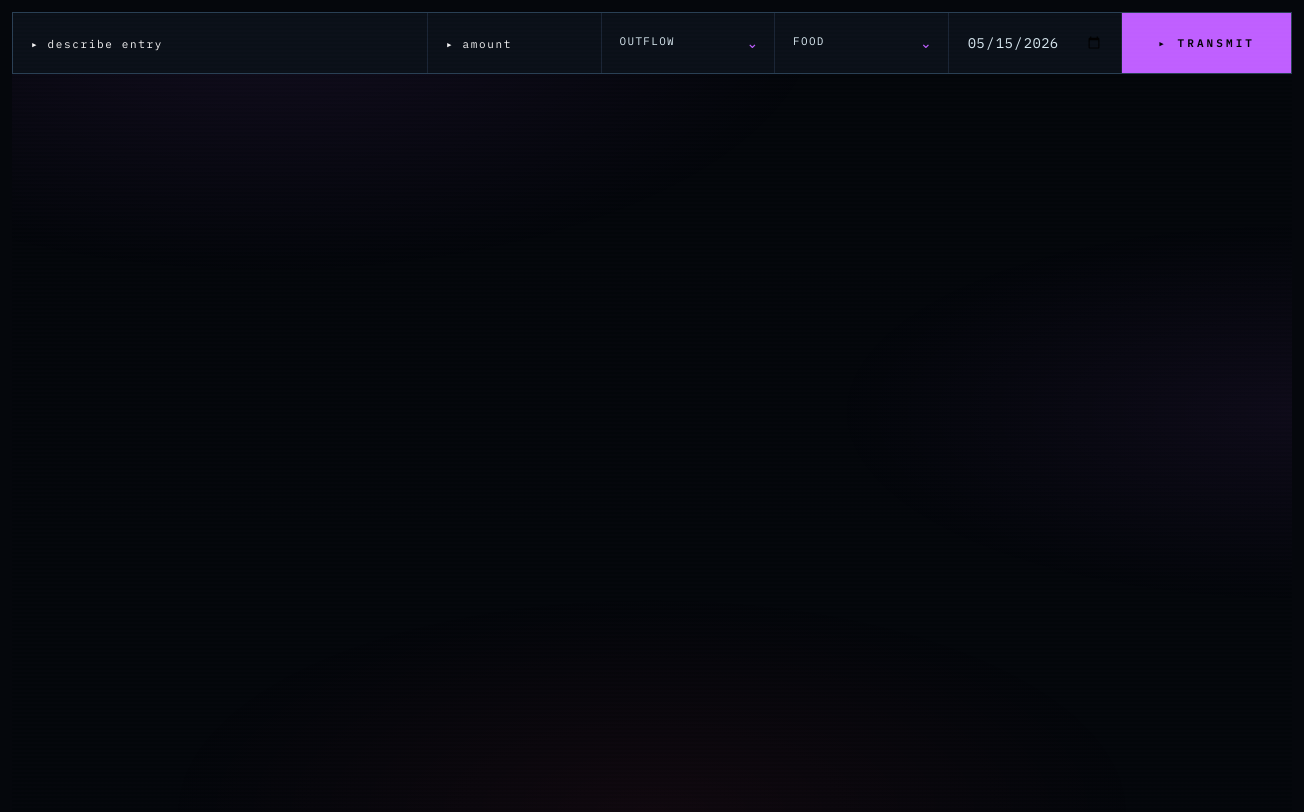
Test: TransactionForm › validation › shows amount error when submitting with amount of zero
Step 1. Type "Coffee" into the field with placeholder "▸ describe entry" → {"x": 220, "y": 43}, box [13,13,427,73]
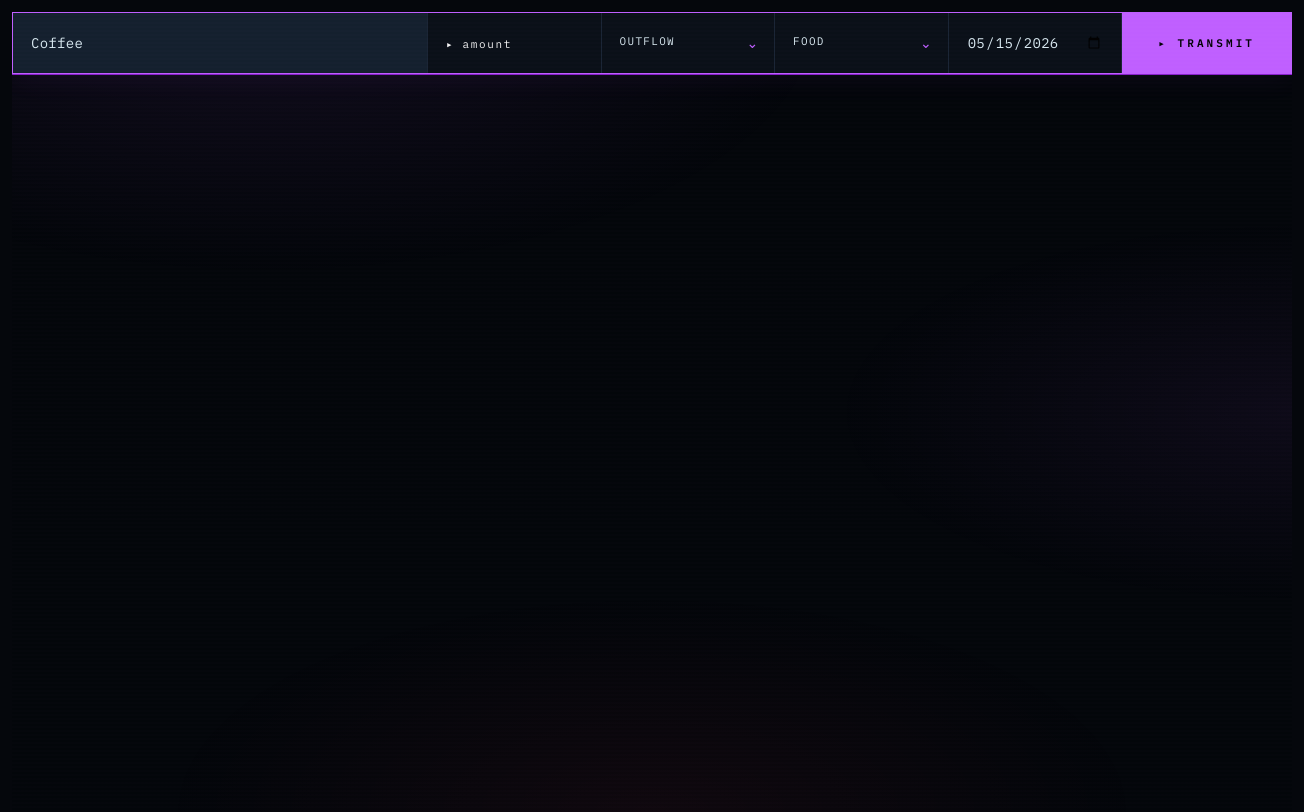
Step 2. Type "0" into the number field with placeholder "▸ amount" → {"x": 514, "y": 43}, box [428,13,601,73]
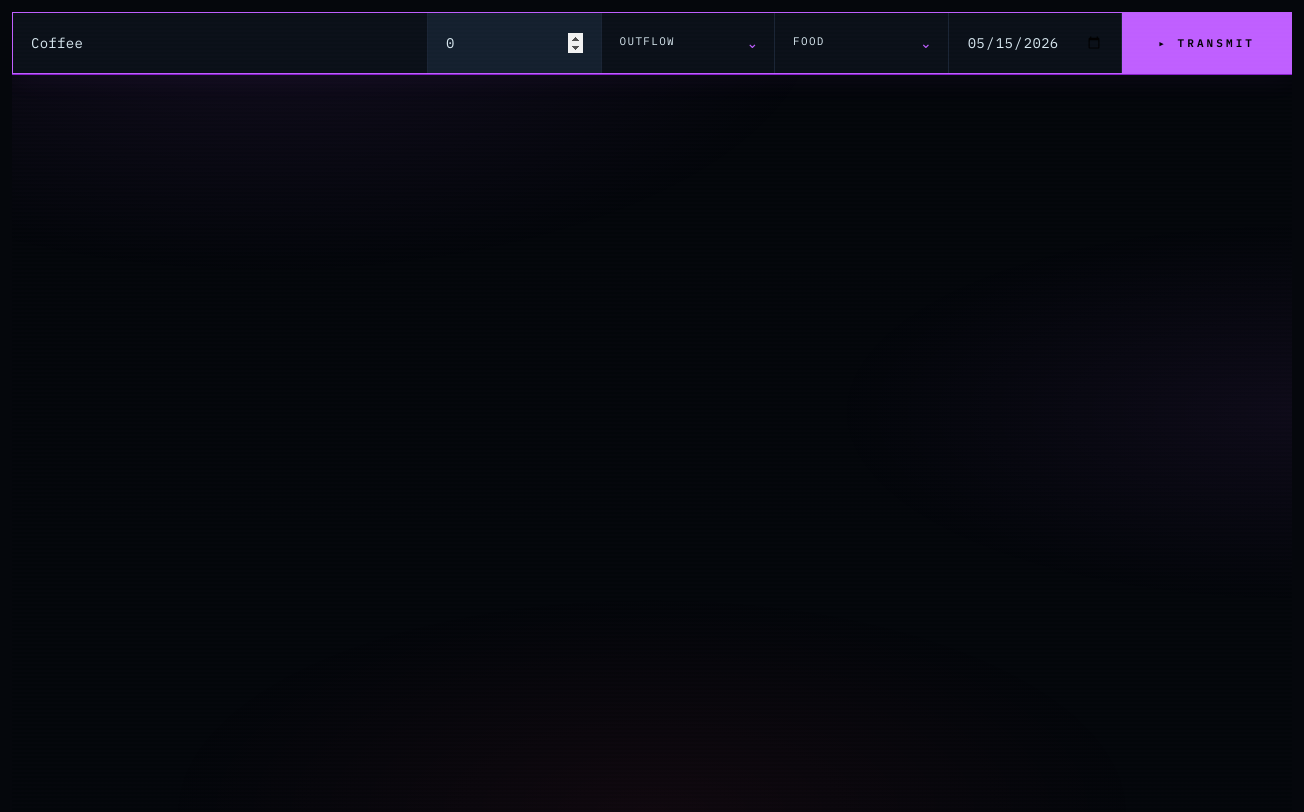
Step 3. Click the button "▸ Transmit" → {"x": 1207, "y": 43}, box [1122,13,1291,73]
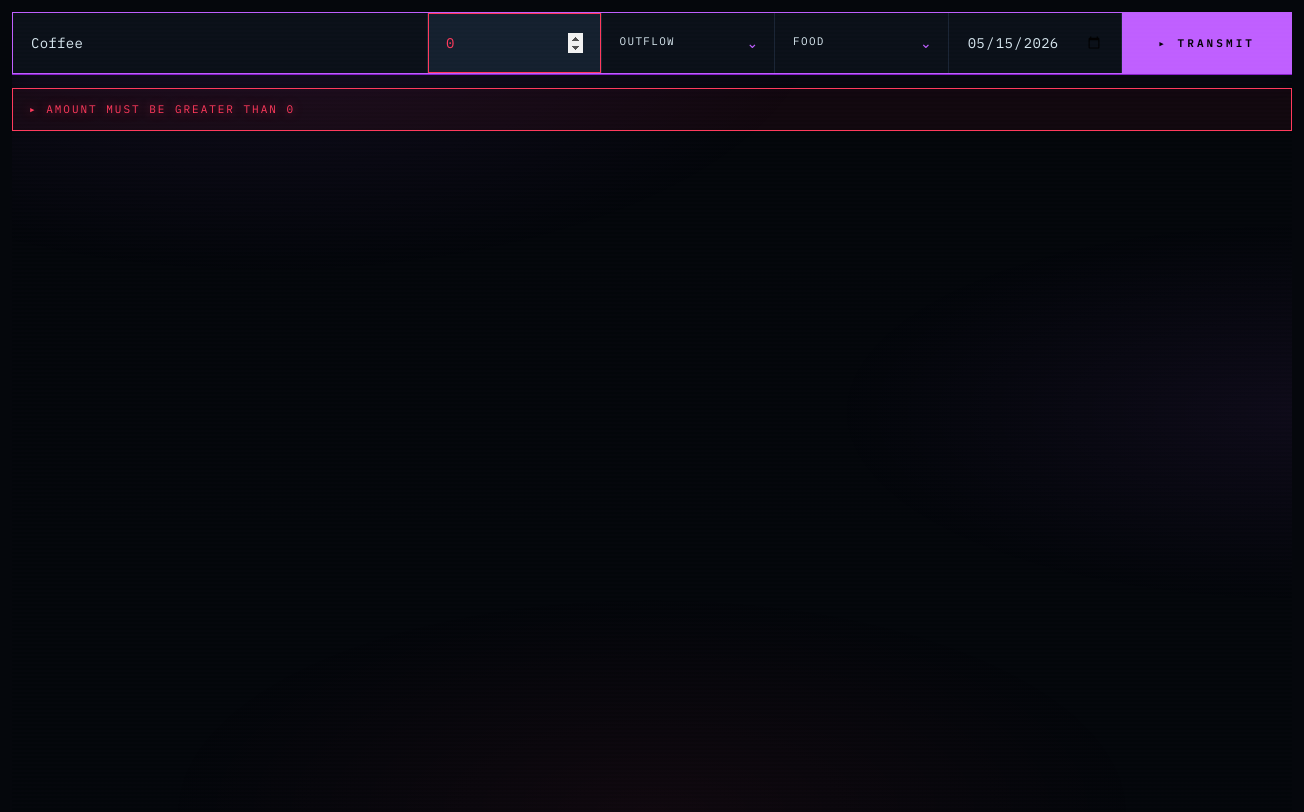
Now the text "▸ Amount must be greater than 0" is shown, box [29,102,295,116]
